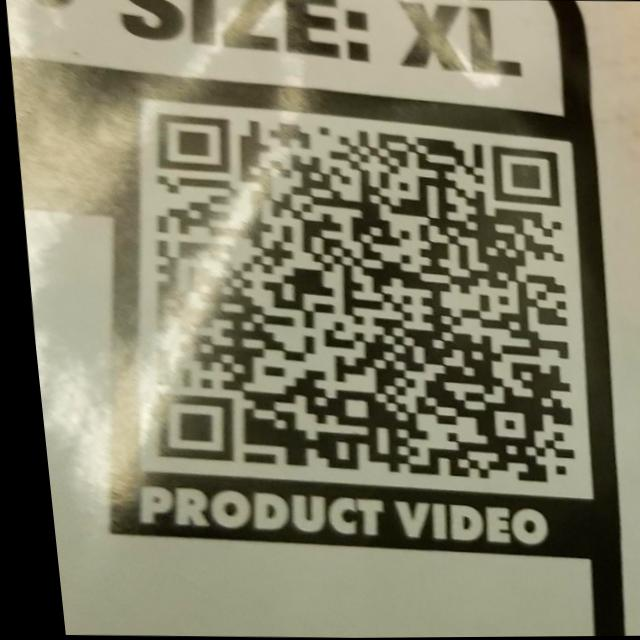QR_CODE: (95, 87, 611, 513)
